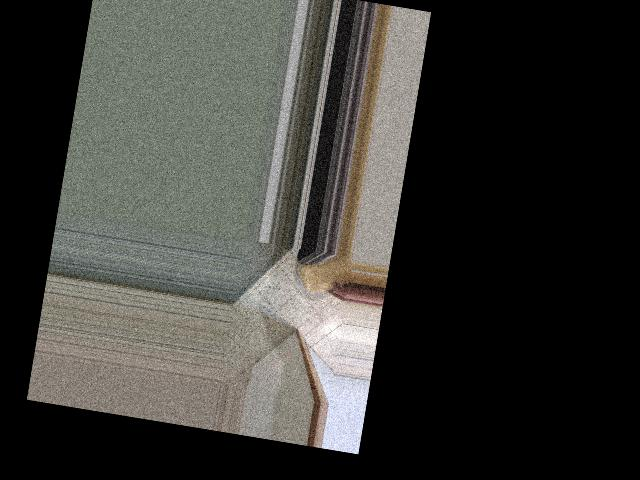cheese: (292, 247, 354, 305)
